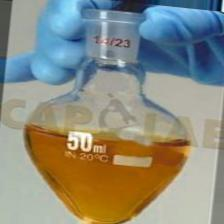Pear shaped flask: (25, 10, 198, 216)
